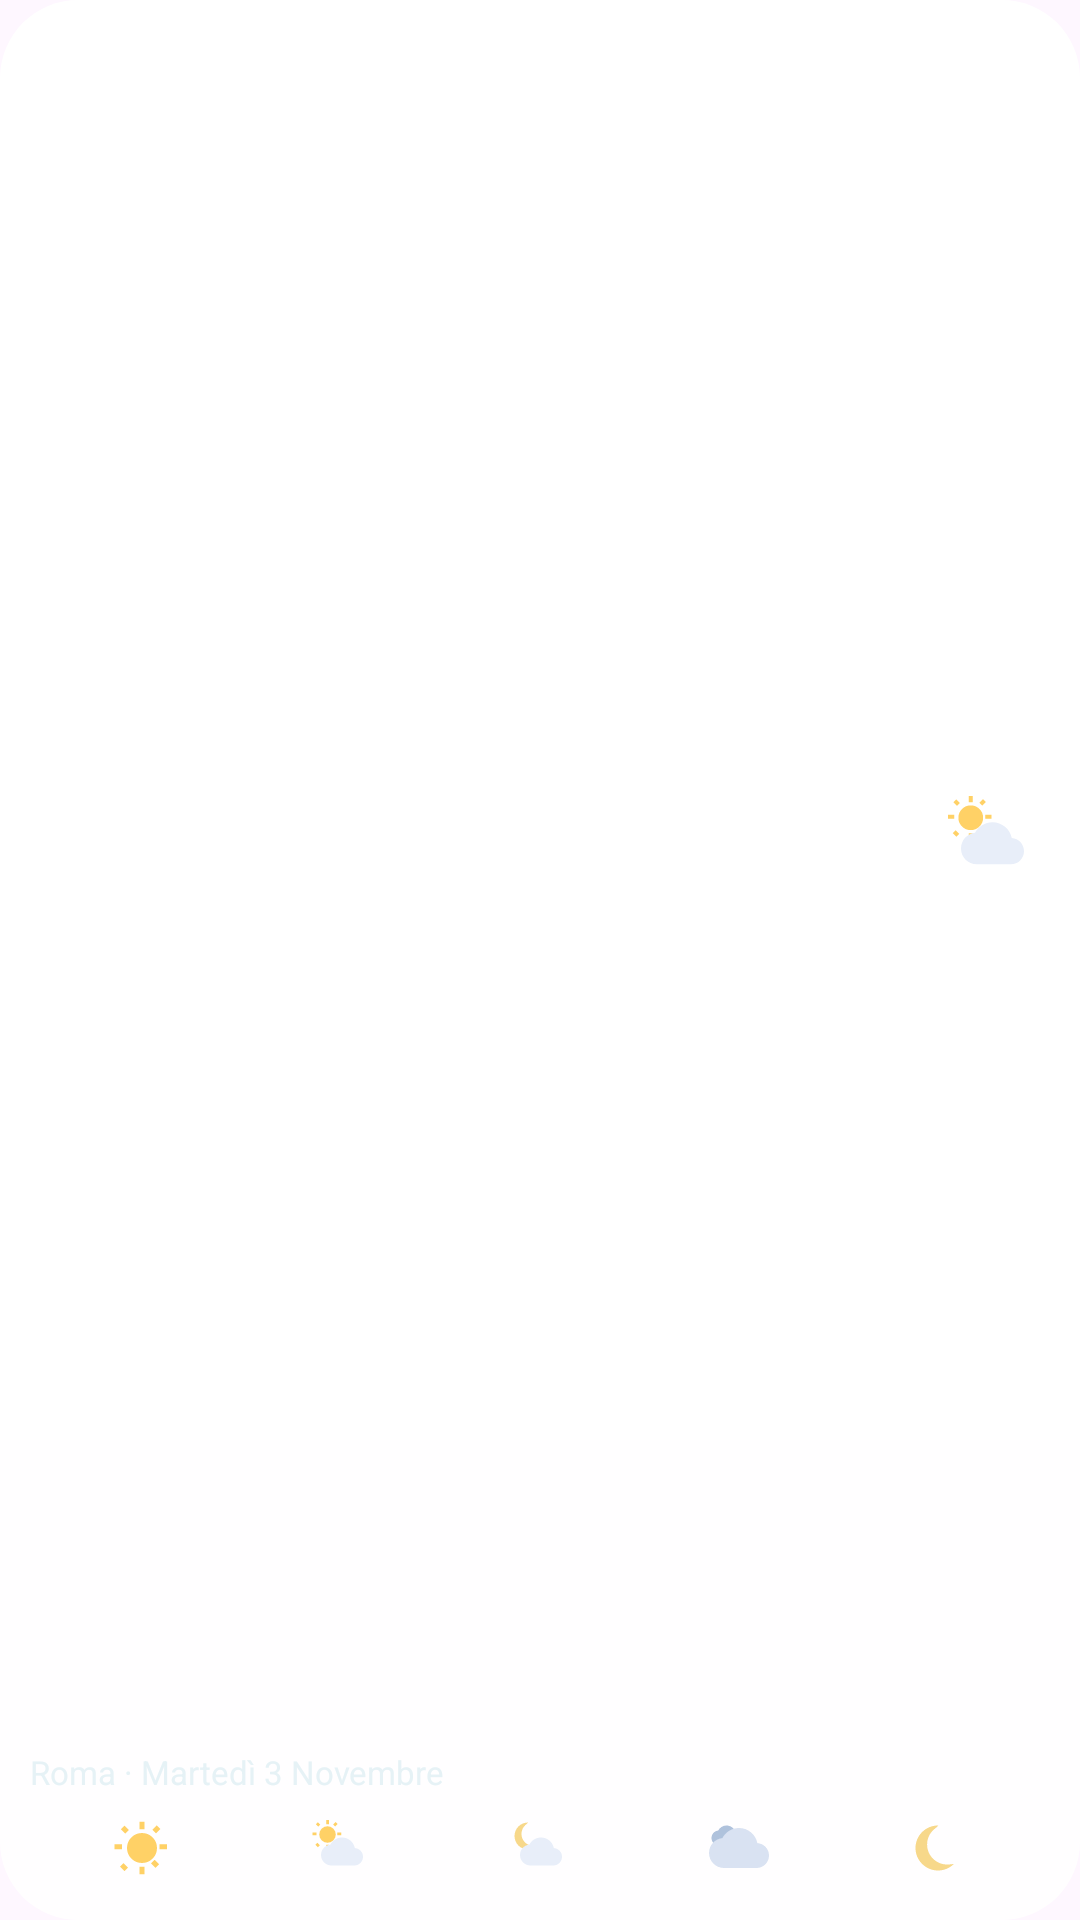

Where icons sit on this 1080px x 1920px app screen, as (x1, y1, x2, y2):
weather cloudy: (709, 1825, 769, 1868)
weather moon: (915, 1825, 954, 1871)
weather sun: (114, 1821, 167, 1875)
